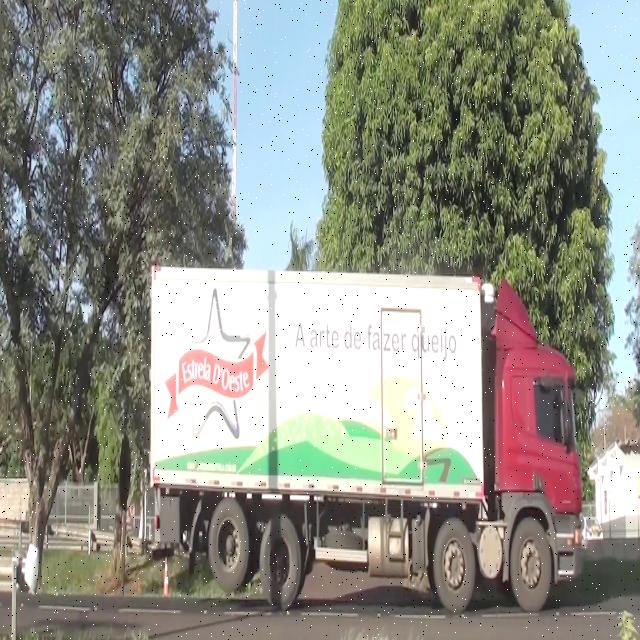-axle: (510, 516, 553, 614), (260, 513, 301, 610), (208, 498, 252, 588), (433, 521, 475, 608)
